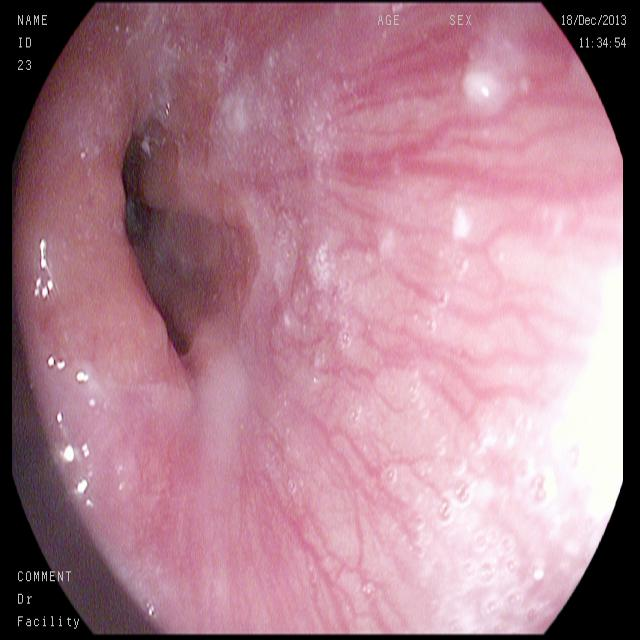Normal-Z-Line: (0, 0, 274, 387)
